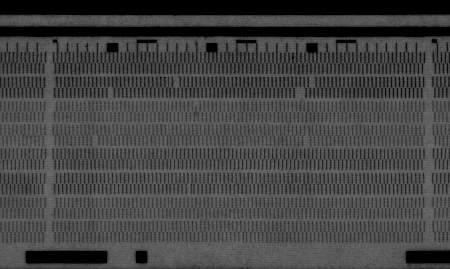Broken hole: (300, 135, 314, 149), (292, 87, 308, 99), (89, 135, 101, 149), (307, 76, 318, 90), (105, 88, 116, 100), (172, 74, 181, 87)
Oblique printing: (191, 99, 203, 114), (184, 183, 197, 195)
